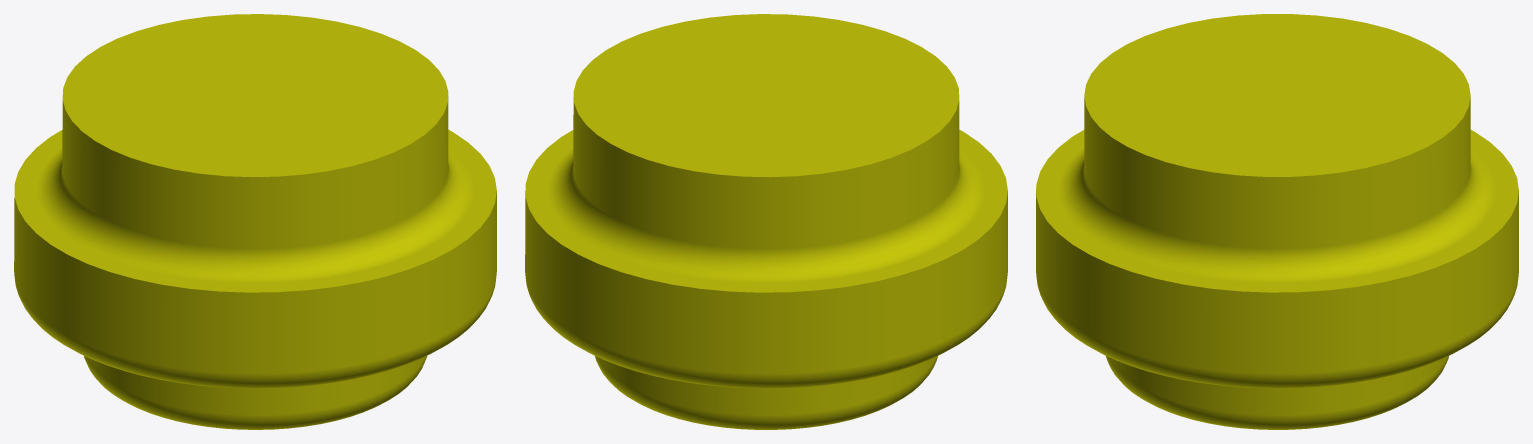
File: L7-original.dae
The picture shows the model from 3 angles, left to right: view 1: azimuth 30°, elevation 25°; view 2: azimuth 150°, elevation 25°; view 3: azimuth 270°, elevation 25°; orthographic projection.
Visible parts, largest first — view 1: Actor0; view 2: Actor0; view 3: Actor0.
Part boxes in pixels (x1=…): Actor0: x1=14, y1=14, x2=496, y2=429; Actor0: x1=525, y1=14, x2=1007, y2=429; Actor0: x1=1036, y1=14, x2=1518, y2=429.
Size of the model in its own units: 0.075 by 0.0462 by 0.075.
